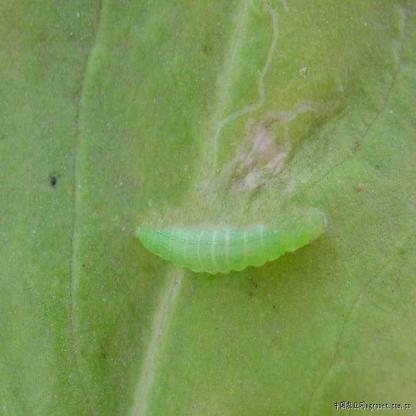armyworm: (128, 197, 336, 280)
